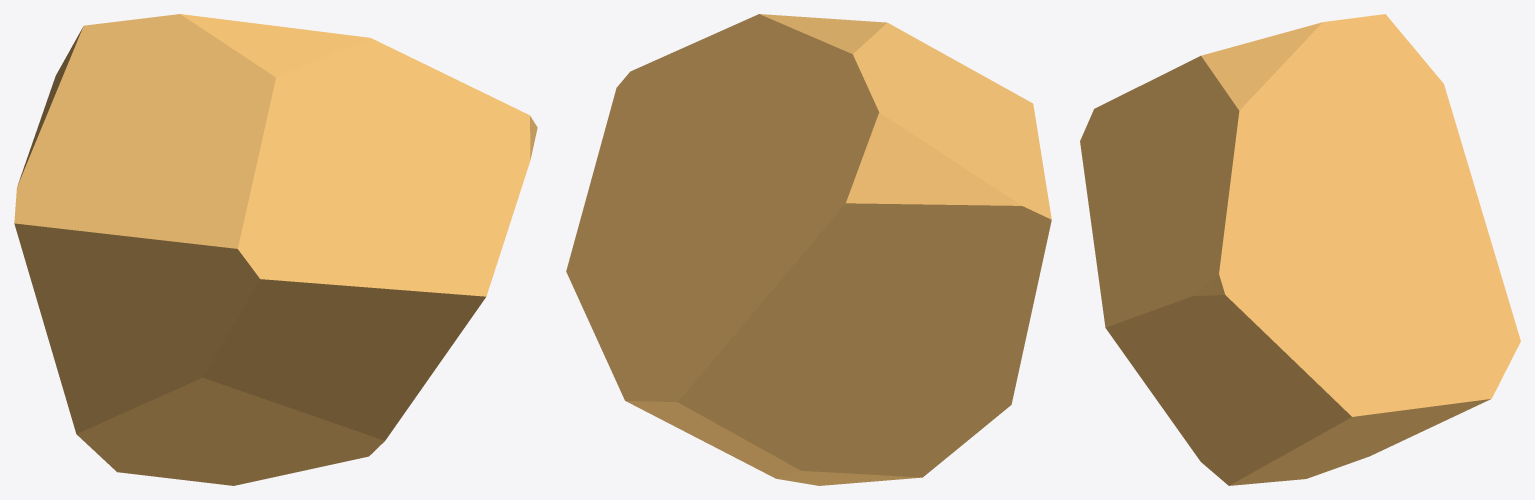
File: small rock.fbx
3 views of the same model, side by side, from view 1: azimuth 30°, elevation 25°; view 2: azimuth 150°, elevation 25°; view 3: azimuth 270°, elevation 25° (orthographic). The views are drawn at different scales.
Visible parts, largest first — view 1: small rock; view 2: small rock; view 3: small rock.
Boxes of the visible parts, x1,y1,x2,y2 form: small rock: [14, 14, 537, 485]; small rock: [566, 14, 1051, 485]; small rock: [1080, 14, 1520, 485].
Bounding box in the file's own units: 55.12 × 50.89 × 46.56.
